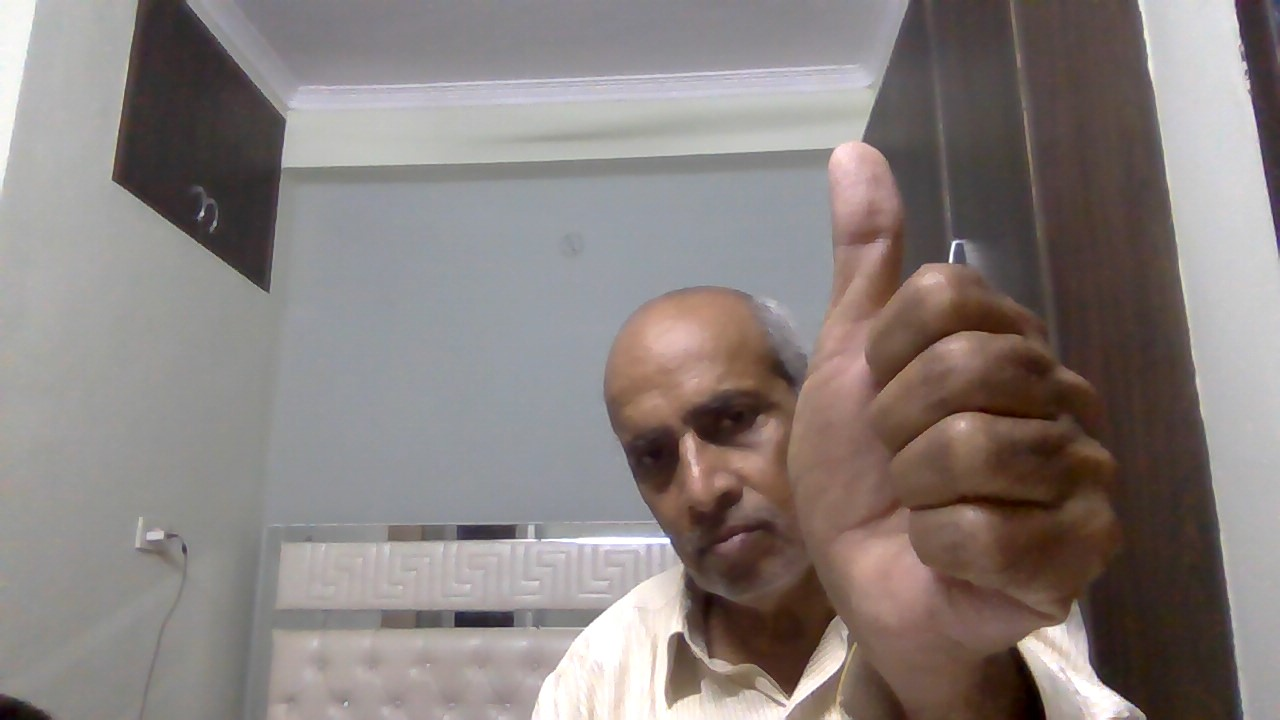Save: (776, 122, 1123, 671)
